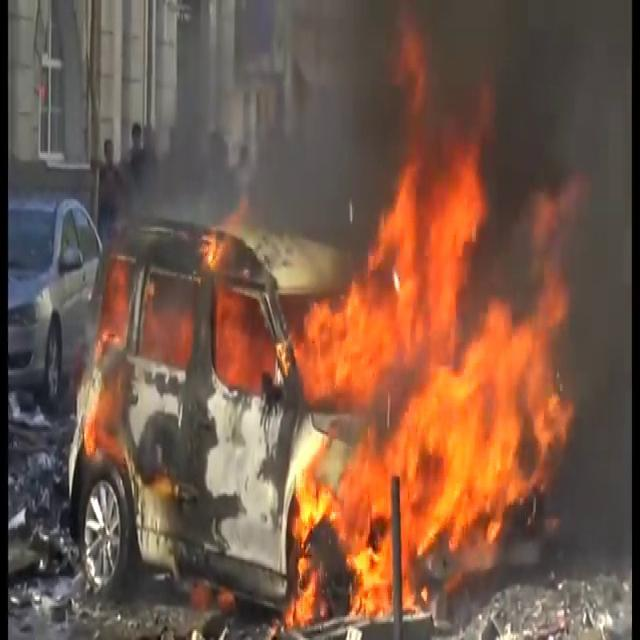Fire: (278, 104, 582, 620), (156, 202, 318, 388), (72, 255, 136, 470)
Smoke: (174, 0, 628, 281), (512, 2, 631, 569)
